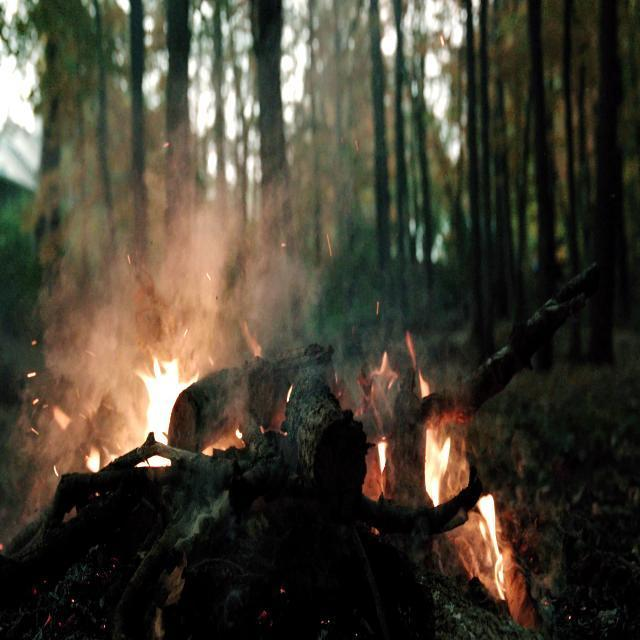Fire: (418, 400, 510, 598), (128, 342, 194, 454)
Smoke: (23, 62, 383, 370)
